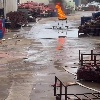fire: (55, 2, 66, 18)
